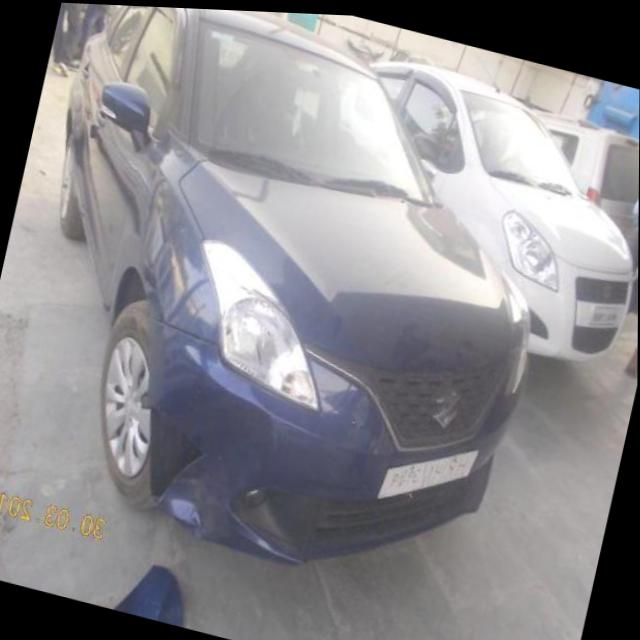Car-Damage: (150, 427, 238, 535)
